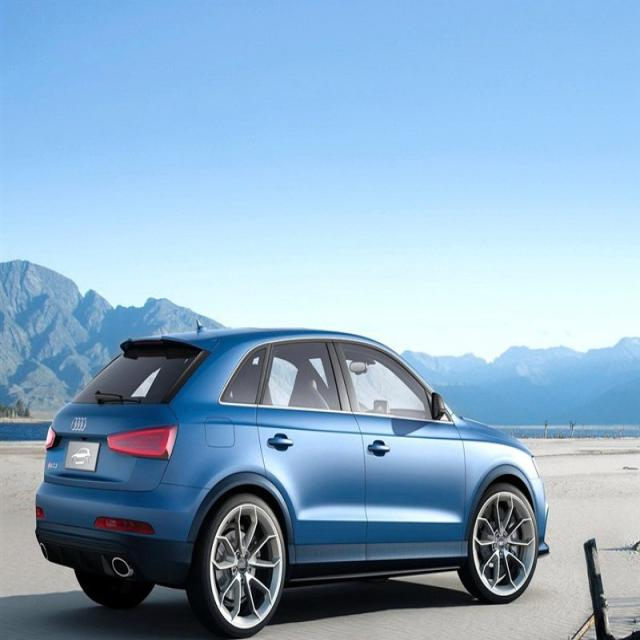back_glass: (68, 341, 211, 404)
back_left_side_light: (44, 424, 58, 452)
back_right_side_light: (106, 424, 179, 462)
door: (259, 338, 366, 582)
front_bumper: (526, 475, 553, 560)
front_right_side_door: (333, 334, 468, 570)
front_right_side_mirror: (426, 390, 449, 424)
rear_bumper: (33, 475, 215, 580)
wheel: (187, 493, 285, 639), (458, 481, 540, 603)
